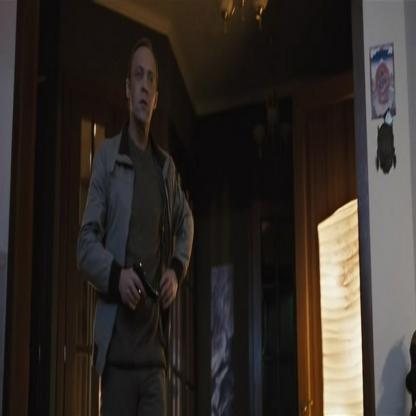gun: (132, 252, 166, 319)
